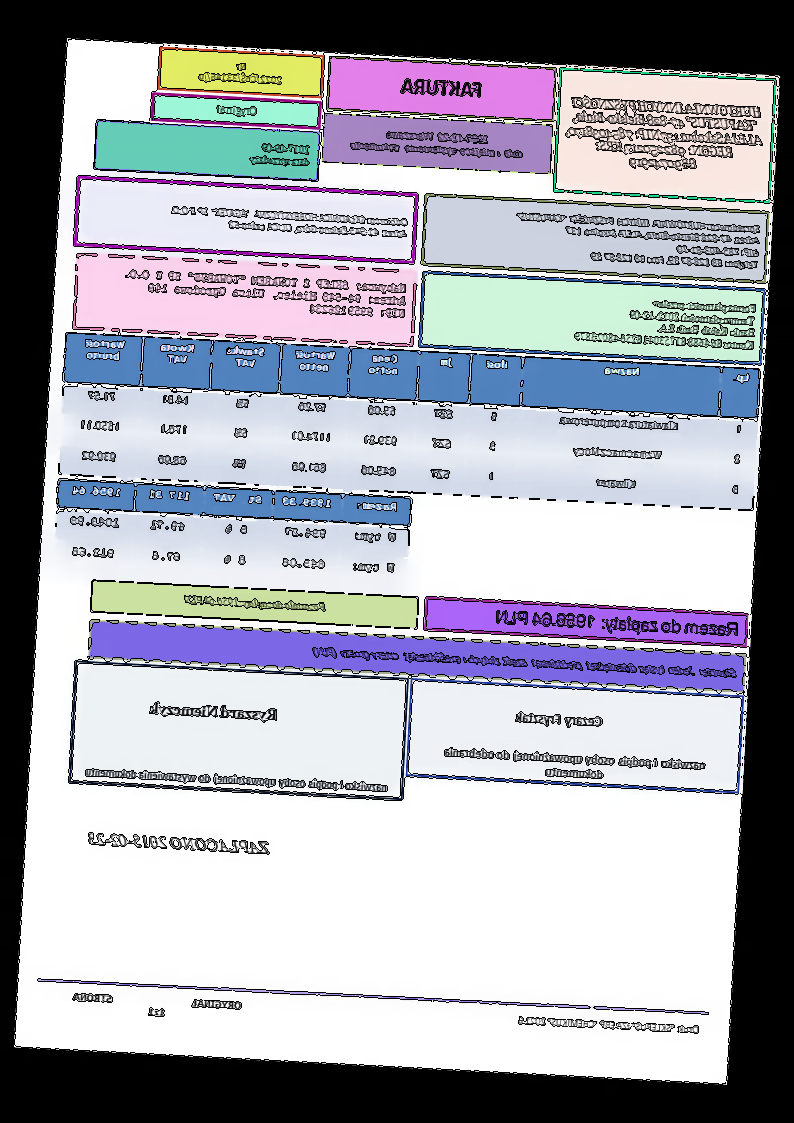Table: (57, 330, 762, 512), (51, 478, 413, 589)
TextBox: (561, 94, 767, 177), (311, 644, 738, 682), (512, 210, 763, 273), (120, 266, 409, 320), (572, 292, 758, 352), (441, 745, 709, 785), (84, 765, 390, 796), (168, 201, 411, 240), (494, 607, 741, 641), (348, 126, 525, 161), (70, 990, 245, 1023), (86, 830, 272, 856), (516, 1014, 701, 1037), (148, 699, 279, 723), (181, 592, 328, 613), (197, 59, 284, 88), (399, 75, 484, 101), (248, 140, 313, 169), (514, 710, 603, 730), (215, 102, 259, 118)
